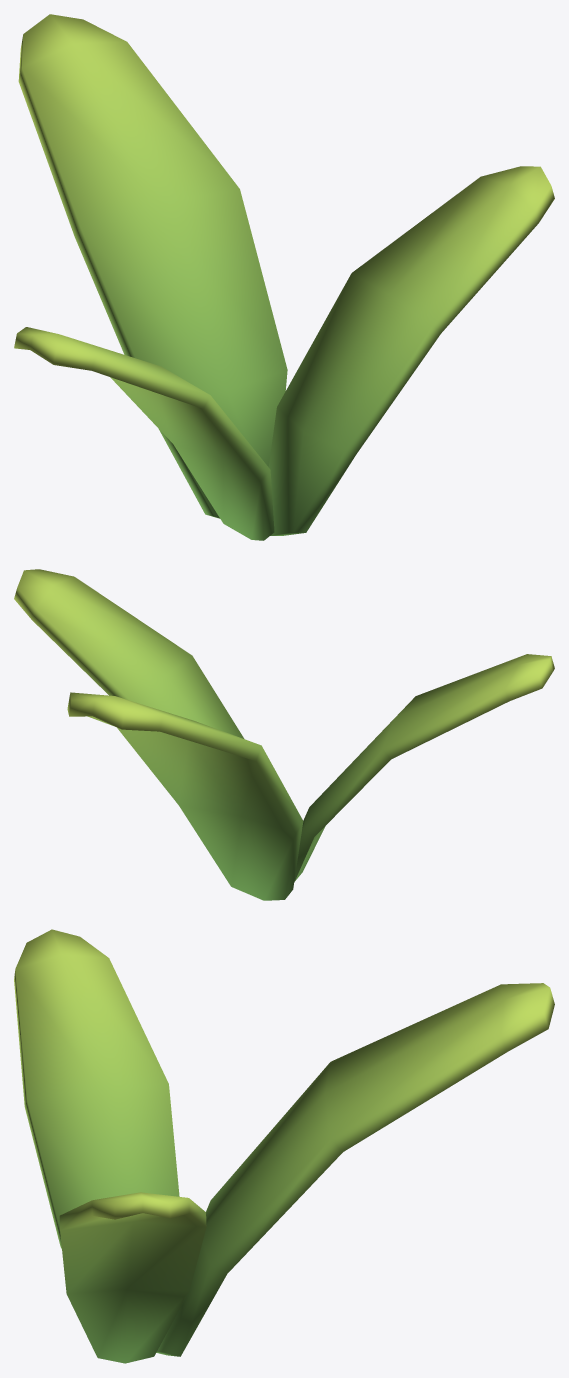
Rendered from grass.fbx.
3 views of the same model, one above another, from view 1: azimuth 30°, elevation 25°; view 2: azimuth 150°, elevation 25°; view 3: azimuth 270°, elevation 25° (orthographic). The views are drawn at different scales.
Visible parts, largest first — view 1: grass01; view 2: grass01; view 3: grass01.
Part boxes in pixels (x1,y1,x2,y2): grass01: (14, 14, 554, 540); grass01: (14, 569, 554, 900); grass01: (14, 929, 554, 1363).
Size of the model in its own units: 0.8294 by 0.5219 by 0.6957.
Materials: 1 (1 with a texture image).
